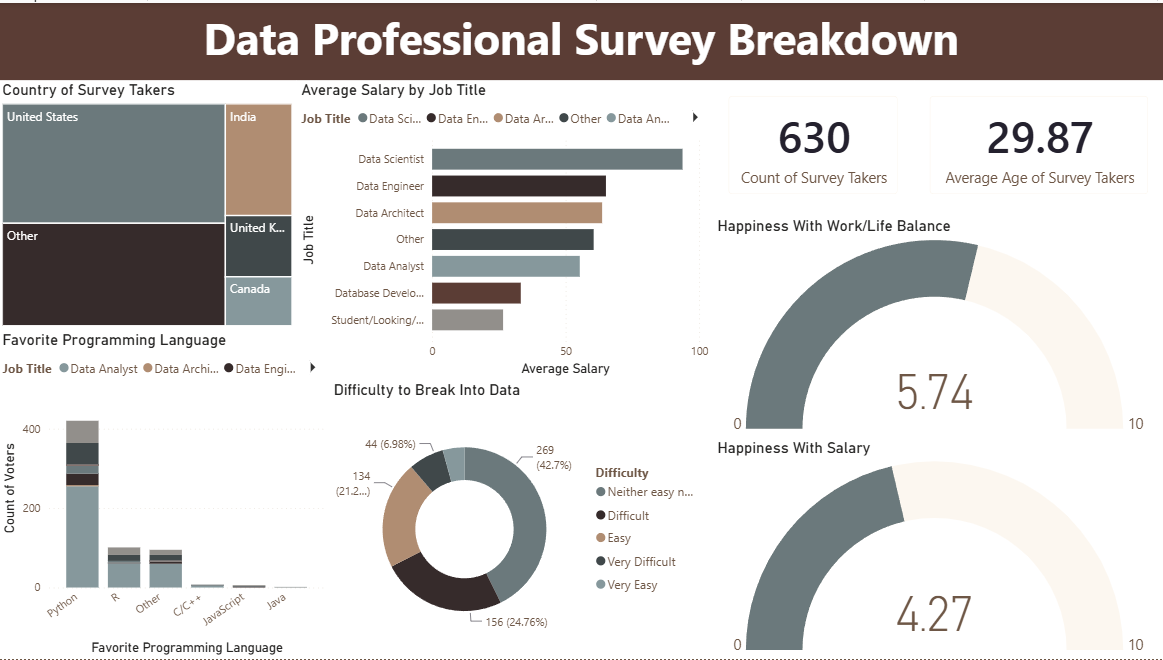

What the dashboard file says about the page in this screenshot:
{"tool":"powerbi","page":{"name":"Page 1","canvas":[1280,720],"ordinal":0},"visuals":[{"type":"textbox","box":[0,0,1280.3,85.1],"z":0},{"type":"cardVisual","fields":{"Data":["Count(Data Professional Survey.Unique ID)"]},"box":[784.9,85.1,220.9,142.7],"z":1000},{"type":"cardVisual","fields":{"Data":["Avg(Data Professional Survey.Q10 - Current Age)"]},"box":[1005.8,85.1,274.4,142.7],"z":2000},{"type":"barChart","title":"Average Salary by Job Title","fields":{"Category":["Data Professional Survey.Q1 - Which Title Best Fits your Current Role?.1"],"Y":["Avg(Data Professional Survey.Average Salary)"],"Series":["Data Professional Survey.Q1 - Which Title Best Fits your Current Role?.1"]},"box":[328,85.1,456.9,329.3],"z":3000},{"type":"columnChart","title":"Favorite Programming Language","fields":{"Category":["Data Professional Survey.Q5 - Favorite Programming Language.1"],"Y":["CountNonNull(Data Professional Survey.Unique ID)"],"Series":["Data Professional Survey.Q1 - Which Title Best Fits your Current Role?.1"]},"box":[0,359.5,363.6,360.9],"z":4000},{"type":"treemap","title":"Country of Survey Takers","fields":{"Group":["Data Professional Survey.Q11 - Which Country do you live in?.1"],"Values":["CountNonNull(Data Professional Survey.Q11 - Which Country do you live in?.1)"]},"box":[0,85.1,328,274.4],"z":5000},{"type":"gauge","title":"Happiness With Salary","fields":{"Y":["Avg(Data Professional Survey.Q6 - How Happy are you in your Current Position with the following? (Salary))"],"MinValue":["Min(Data Professional Survey.Q6 - How Happy are you in your Current Position with the following? (Salary))"],"MaxValue":["Max(Data Professional Survey.Q6 - How Happy are you in your Current Position with the following? (Salary))"]},"box":[784.9,477.5,495.4,242.9],"z":5001},{"type":"gauge","title":"Happiness With Work/Life Balance","fields":{"Y":["Avg(Data Professional Survey.Q6 - How Happy are you in your Current Position with the following? (Work/Life Balance))"],"MinValue":["Min(Data Professional Survey.Q6 - How Happy are you in your Current Position with the following? (Work/Life Balance))1"],"MaxValue":["Max(Data Professional Survey.Q6 - How Happy are you in your Current Position with the following? (Work/Life Balance))2"]},"box":[784.9,234.6,495.4,242.9],"z":5002},{"type":"donutChart","title":"Difficulty to Break Into Data","fields":{"Category":["Data Professional Survey.Q7 - How difficult was it for you to break into Data?"],"Y":["CountNonNull(Data Professional Survey.Q7 - How difficult was it for you to break into Data?)"]},"box":[363.6,414.4,421.3,306],"z":5003}]}

Visuals, with their boxes in screenshot pixels (x1, y1, x2, y2), scaled from the page's 1280x720 canvas onto the 1163x660 screenshot:
textbox: [left=0, top=0, right=1162, bottom=78]
cardVisual - Count(Data Professional Survey.Unique ID): [left=713, top=78, right=914, bottom=209]
cardVisual - Avg(Data Professional Survey.Q10 - Current Age): [left=914, top=78, right=1162, bottom=209]
"Average Salary by Job Title" barChart: [left=298, top=78, right=713, bottom=380]
"Favorite Programming Language" columnChart: [left=0, top=330, right=330, bottom=659]
"Country of Survey Takers" treemap: [left=0, top=78, right=298, bottom=330]
"Happiness With Salary" gauge: [left=713, top=438, right=1162, bottom=659]
"Happiness With Work/Life Balance" gauge: [left=713, top=215, right=1162, bottom=438]
"Difficulty to Break Into Data" donutChart: [left=330, top=380, right=713, bottom=659]
